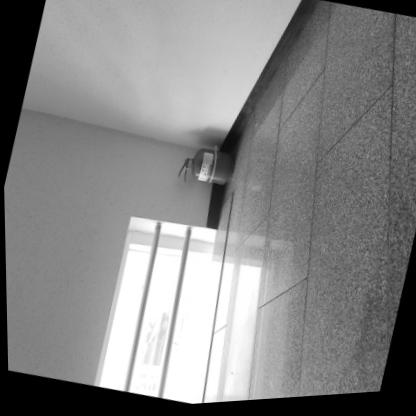DDL: (173, 144, 237, 196)
